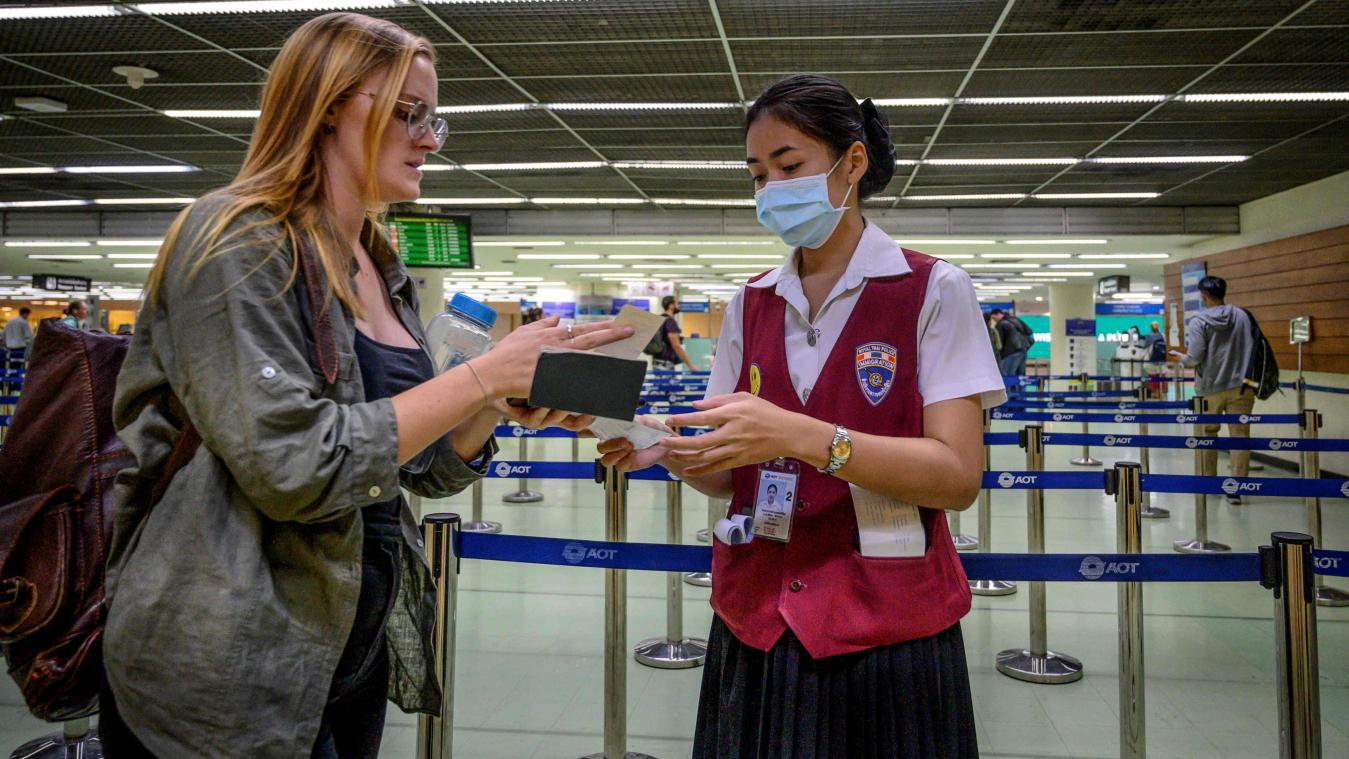mask: (746, 146, 851, 257)
none: (340, 78, 442, 207)
